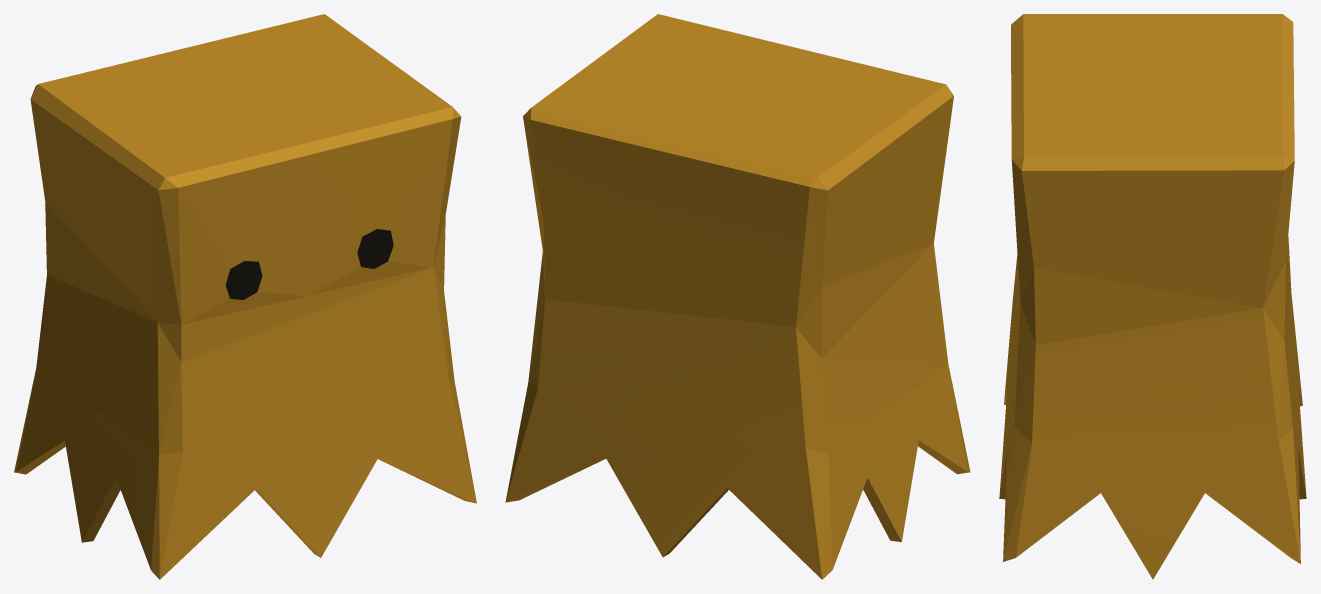
Rendered from hat_paperbag.glb.
3 renders of one model, left to right at view 1: azimuth 30°, elevation 25°; view 2: azimuth 150°, elevation 25°; view 3: azimuth 270°, elevation 25°, orthographic.
Parts seen in each view (by area): view 1: Lp_Paperbag01; view 2: Lp_Paperbag01; view 3: Lp_Paperbag01.
Boxes of the visible parts, left/top/right/bottom form: Lp_Paperbag01: left=14, top=14, right=476, bottom=579; Lp_Paperbag01: left=505, top=14, right=970, bottom=579; Lp_Paperbag01: left=999, top=14, right=1306, bottom=579.
Size of the model in its own units: 0.3543 by 0.4225 by 0.2834.
Materials: 1 (1 with a texture image).
